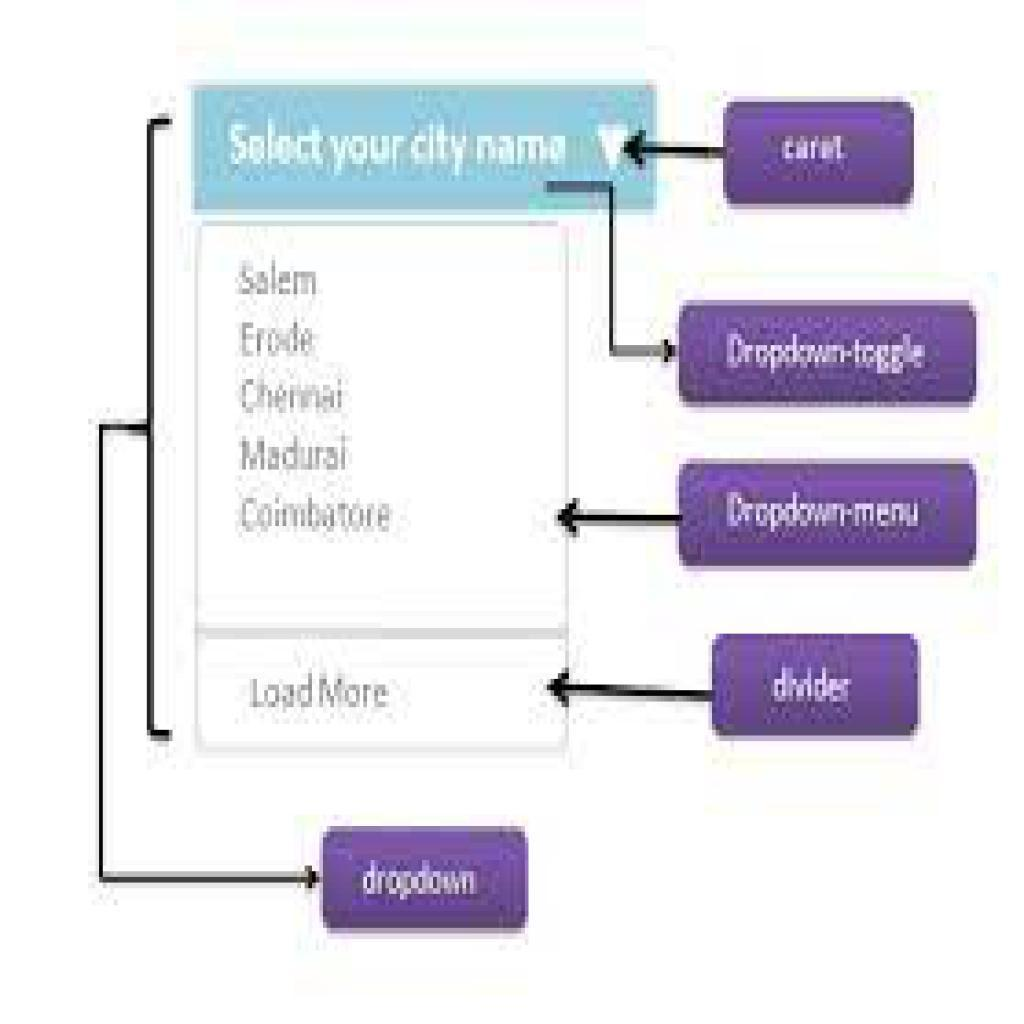dropdown: (195, 87, 657, 210)
